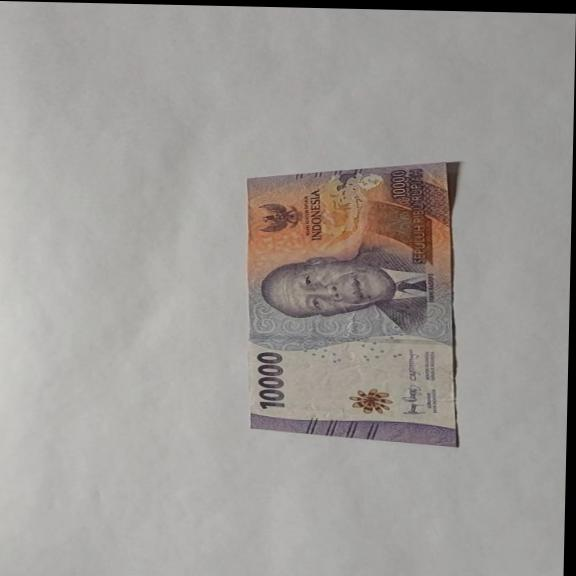Kertas: (239, 156, 466, 447), (254, 350, 288, 410)
